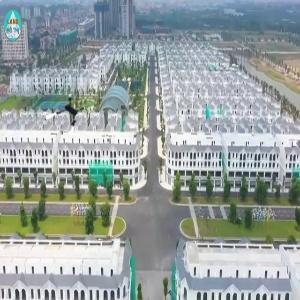drone: (46, 95, 88, 137)
